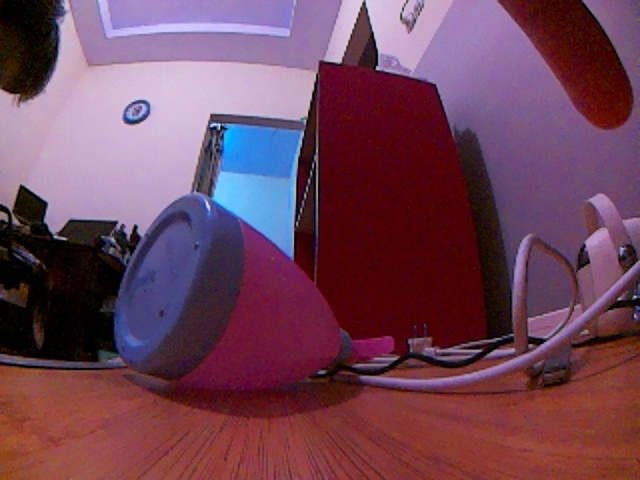korban: (107, 187, 413, 408)
